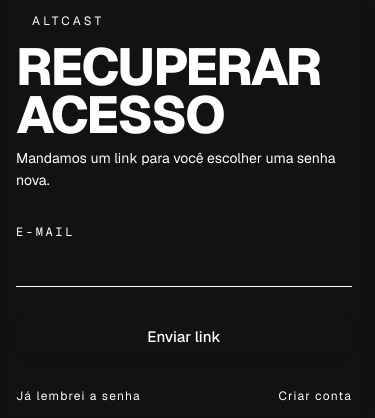
telas de autenticacao › o pedido de recuperação não revela se a conta existe
In the field labelled "E-mail": (184, 267) [16,248,352,287], type "ninguem@x.com"
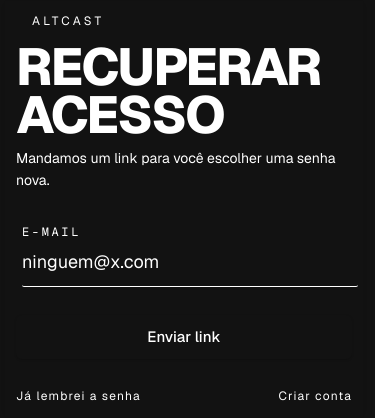
Click the button "Enviar link": (184, 337) [16,315,352,359]
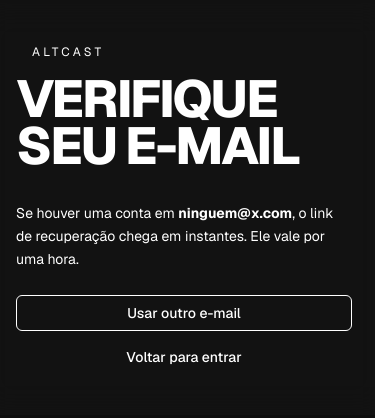
Check: the message shows "Se houver uma conta", box [16,204,178,222]
